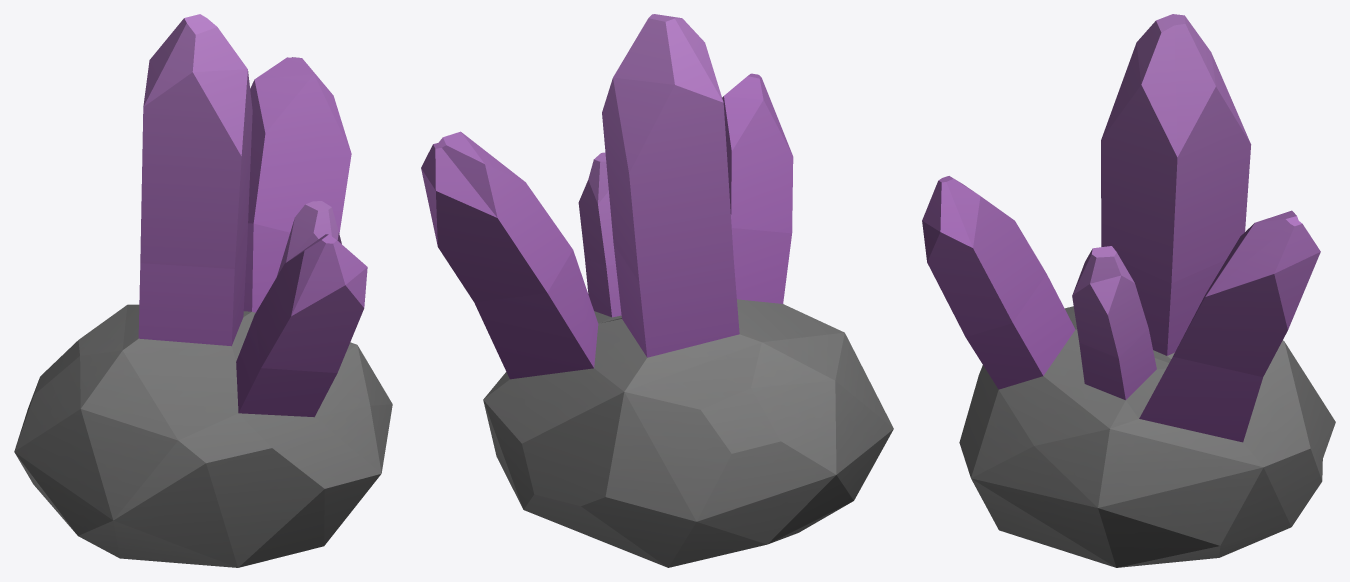
File: amethyst.glb
3 views of the same model, side by side, from view 1: azimuth 30°, elevation 25°; view 2: azimuth 150°, elevation 25°; view 3: azimuth 270°, elevation 25° (orthographic). The views are drawn at different scales.
Parts seen in each view (by area): view 1: amethyst; view 2: amethyst; view 3: amethyst.
Part boxes in pixels (bbox=[...]): amethyst: bbox=[14, 14, 392, 567]; amethyst: bbox=[421, 14, 893, 567]; amethyst: bbox=[922, 14, 1335, 567].
Size of the model in its own units: 2.18 by 2.96 by 2.1.
Materials: 1 (1 with a texture image).
